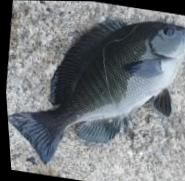fish: (6, 17, 185, 163)
